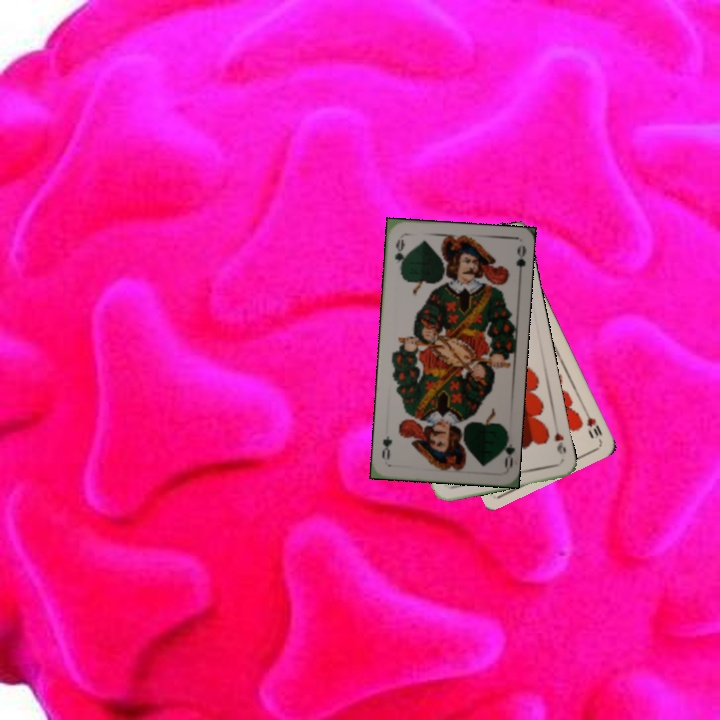GO: (496, 430, 516, 471), (391, 235, 408, 275)
H10: (580, 406, 605, 444)
H9: (550, 428, 569, 457)
